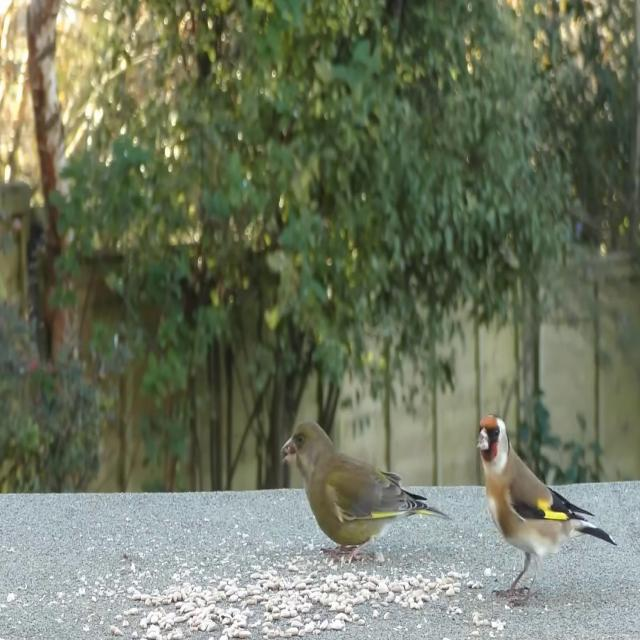beak: (279, 435, 296, 467), (475, 428, 488, 452)
bird: (477, 410, 618, 606), (281, 413, 454, 566)
